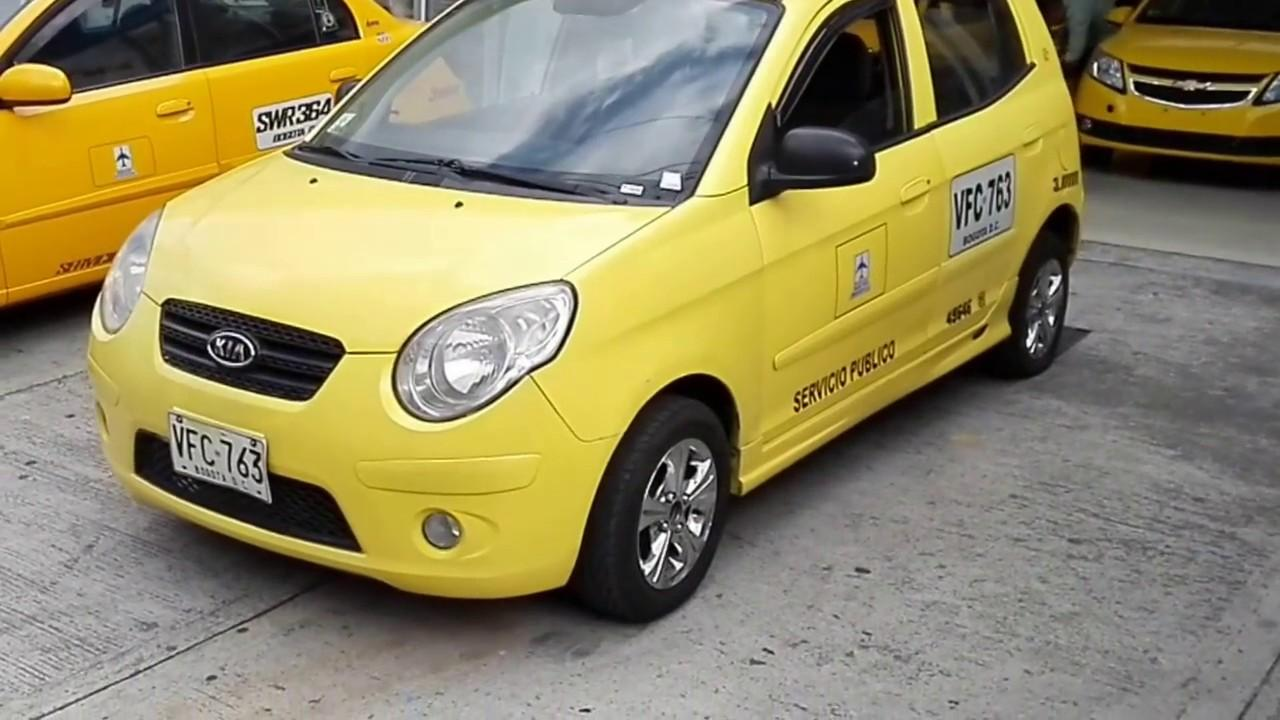taxi: (102, 17, 1108, 623)
